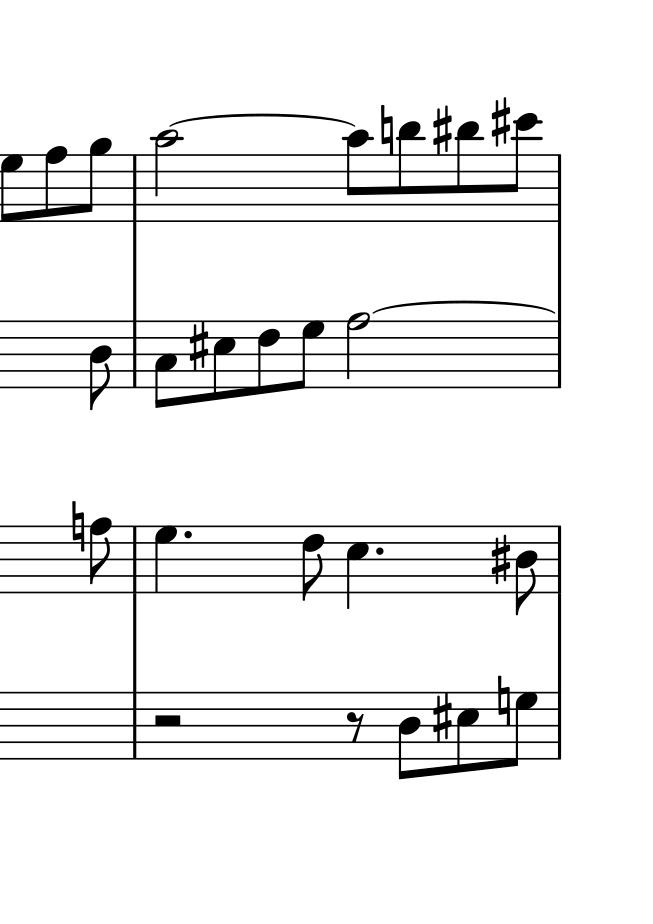2_10: (152, 128, 179, 222)
2_7: (345, 310, 369, 388)
4_5: (345, 525, 370, 612)
4_7: (153, 524, 178, 593)
8_10: (345, 128, 370, 223)
8_11: (454, 115, 481, 225), (397, 119, 422, 223)
8_12: (506, 104, 541, 225)
8_3: (153, 320, 179, 409)
8_4: (88, 321, 114, 412), (514, 522, 538, 616), (397, 692, 421, 783)
8_5: (454, 690, 480, 776), (211, 318, 236, 401)
8_6: (256, 320, 281, 395), (301, 525, 326, 600)
8_7: (507, 690, 537, 768), (293, 319, 323, 391), (1, 152, 23, 223)
8_8: (88, 516, 113, 595), (43, 145, 67, 224)
8_9: (81, 136, 112, 223)
Natural: (70, 499, 85, 555), (379, 106, 395, 158), (496, 677, 512, 729)
Rests2: (150, 712, 184, 729)
Rests8: (346, 710, 367, 743)
Sharp: (489, 533, 512, 588), (431, 690, 454, 745), (187, 320, 210, 373), (432, 104, 453, 156), (490, 96, 511, 148)
Single_barline: (127, 154, 143, 222), (126, 692, 142, 759), (552, 154, 567, 223), (552, 526, 567, 595), (128, 526, 143, 594), (551, 326, 566, 389), (128, 320, 142, 387), (552, 693, 566, 759)
Slur: (168, 113, 358, 130), (373, 299, 552, 313)
dot: (181, 527, 194, 542), (372, 544, 386, 557)
